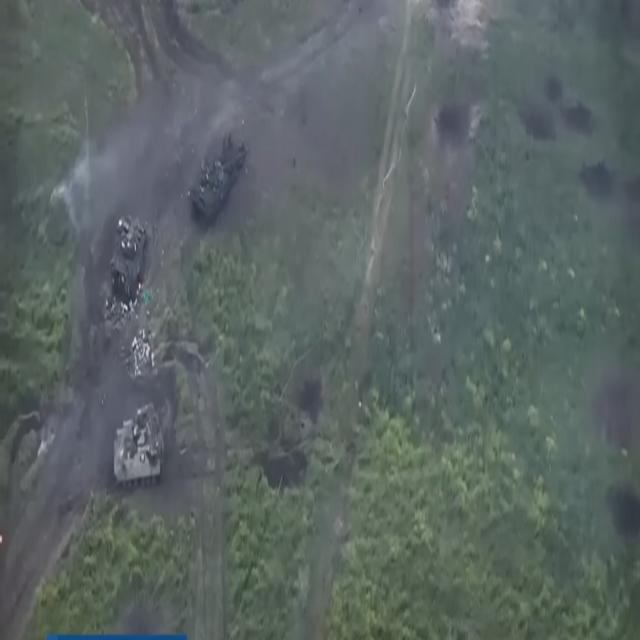AIFV: (114, 401, 164, 495), (112, 213, 147, 304)
MBT: (191, 140, 251, 232)
